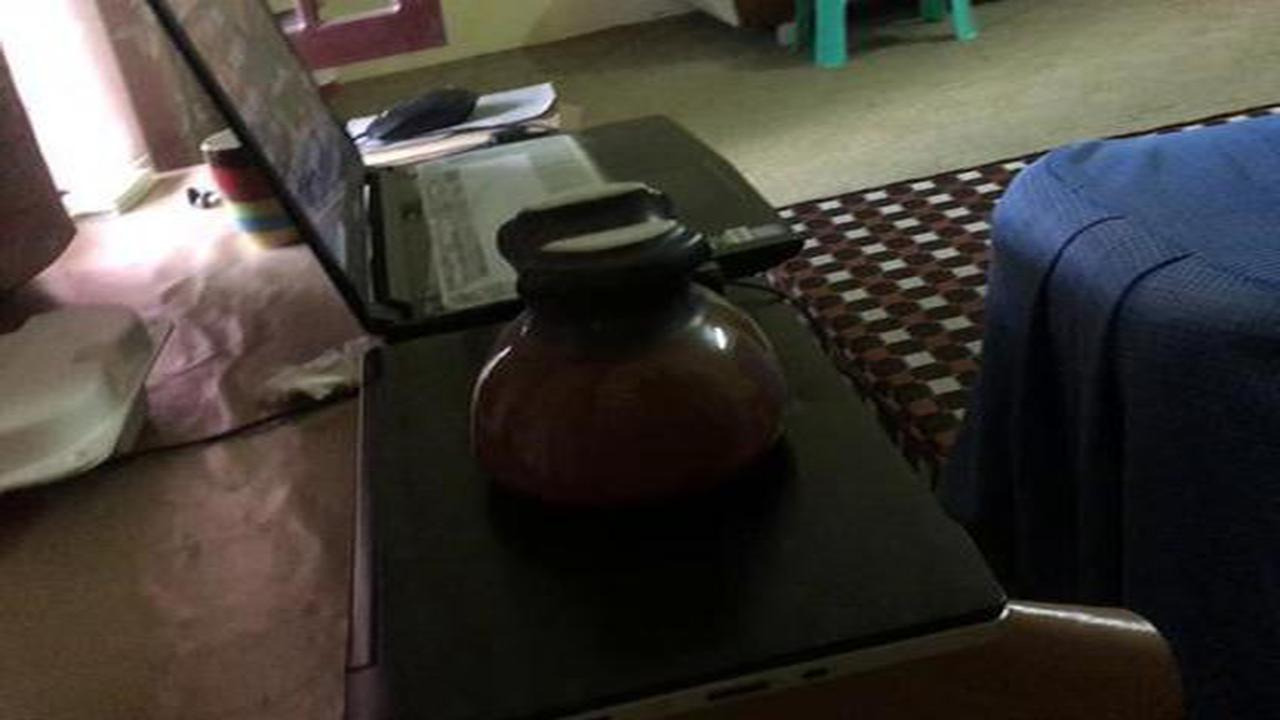insulator_pin: (453, 182, 825, 528)
